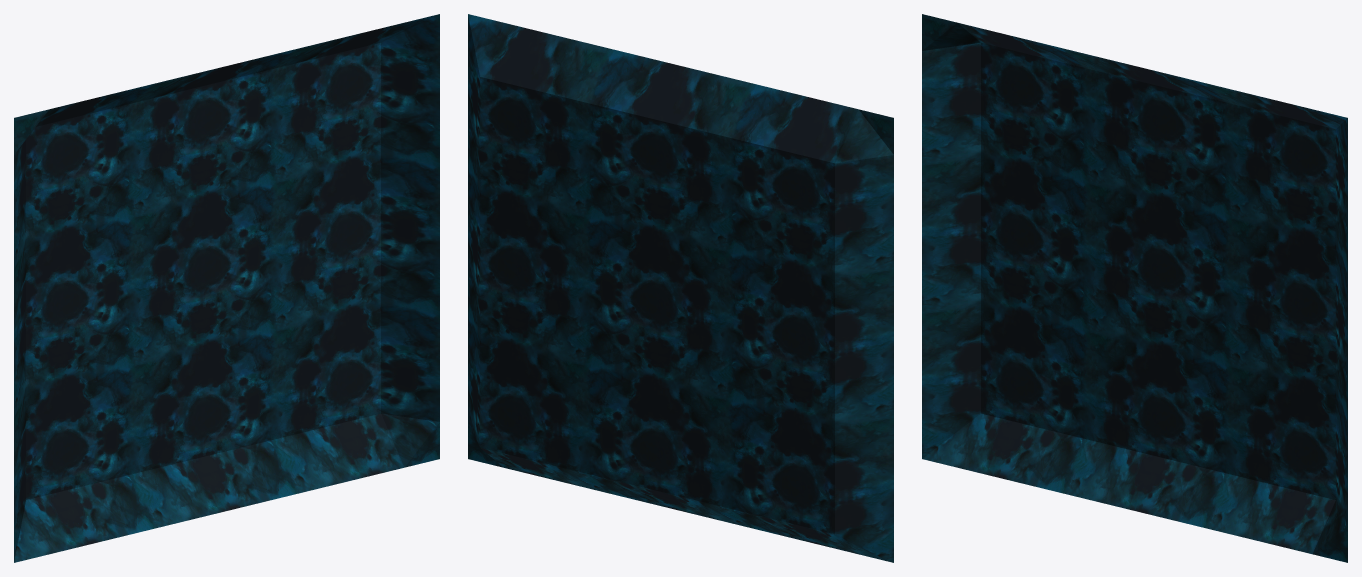
Rendered from zhucheng_yewai_291_haidi.obj.
The picture shows the model from 3 angles, left to right: view 1: azimuth 30°, elevation 25°; view 2: azimuth 150°, elevation 25°; view 3: azimuth 330°, elevation 25°; orthographic projection.
Parts seen in each view (by area): view 1: Plane05; view 2: Plane05; view 3: Plane05.
Boxes of the visible parts, <box> form: Plane05: <box>14,14,439,562</box>; Plane05: <box>468,14,893,562</box>; Plane05: <box>922,14,1347,562</box>.
Size of the model in its own units: 49333 by 49250 by 4684.
Materials: 1 (1 with a texture image).
